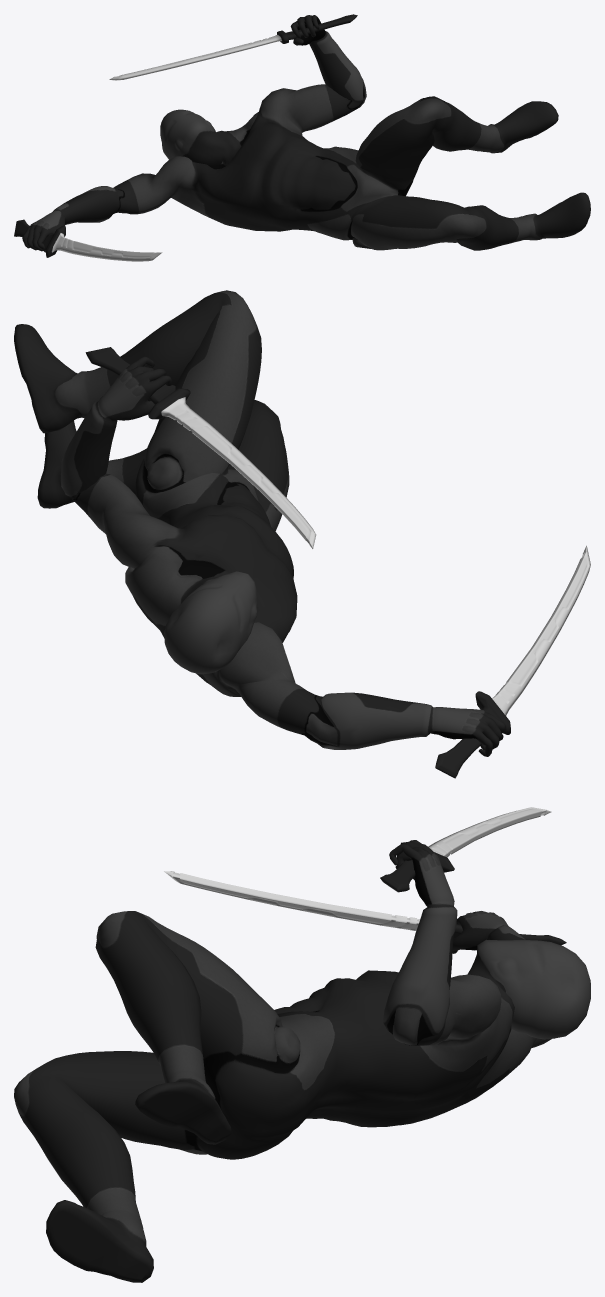
3 renders of one model, top to bottom at view 1: azimuth 30°, elevation 25°; view 2: azimuth 150°, elevation 25°; view 3: azimuth 270°, elevation 25°, orthographic. The views are drawn at different scales.
Visible parts, largest first — view 1: Cyborg_Ninja_Killer, Sword_l001, Sword_l; view 2: Cyborg_Ninja_Killer, Sword_l, Sword_l001; view 3: Cyborg_Ninja_Killer, Sword_l001, Sword_l.
Part boxes in pixels (x1,y1,x2,y2): Cyborg_Ninja_Killer: (22, 15, 590, 251); Sword_l001: (14, 219, 162, 261); Sword_l: (109, 14, 357, 80); Cyborg_Ninja_Killer: (14, 290, 505, 756); Sword_l: (85, 347, 316, 548); Sword_l001: (435, 545, 590, 778); Cyborg_Ninja_Killer: (14, 840, 590, 1282); Sword_l001: (164, 871, 566, 945); Sword_l: (380, 807, 551, 892).
Bounding box in the file's own units: 173 × 75.81 × 124.
2 materials, 2 textured.
